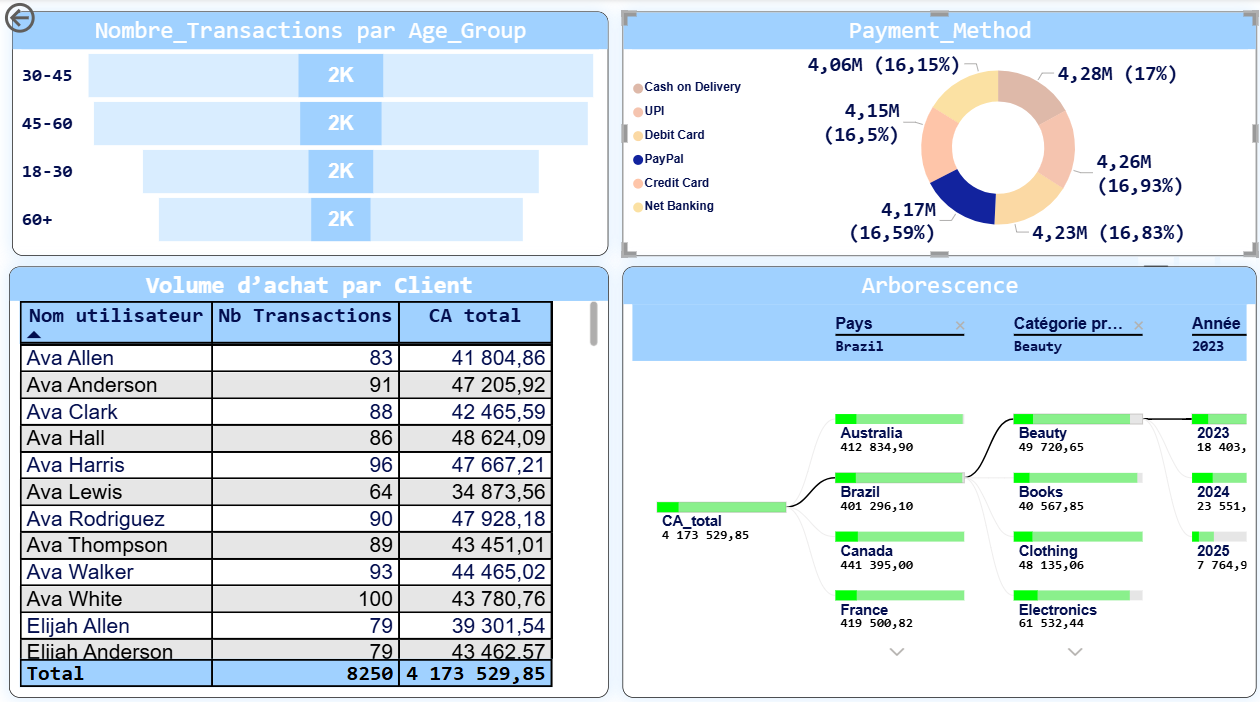

What the dashboard file says about the page in this screenshot:
{"tool":"powerbi","page":{"name":"Page 2","canvas":[1280,720],"ordinal":1},"visuals":[{"type":"funnel","fields":{"Category":["transactions_modifier.Age_Group"],"Y":["transactions_modifier.Nombre_Transactions"]},"box":[11.7,13.3,601.7,246.7],"z":0},{"type":"donutChart","title":" Payment_Method","fields":{"Category":["transactions_modifier.Payment_Method"],"Y":["transactions_modifier.CA_total"]},"box":[628.3,13.3,640,246.7],"z":1000},{"type":"tableEx","title":"Volume d’achat par Client","fields":{"Values":["transactions_modifier.User_Name","transactions_modifier.Nombre_Transactions","transactions_modifier.CA_total"]},"box":[8.3,271.7,605,435],"z":2000},{"type":"actionButton","box":[0,0,100,40],"z":3000},{"type":"decompositionTreeVisual","title":"Arborescence","fields":{"Analyze":["transactions_modifier.CA_total"],"ExplainBy":["transactions_modifier.Country","transactions_modifier.Product_Category","CA_month.Month_year.Variation.Hiérarchie de dates.Année","CA_month.Month_year.Variation.Hiérarchie de dates.Mois"]},"box":[628.3,271.7,640,435],"z":4000}]}

Visuals, with their boxes in screenshot pixels (x1, y1, x2, y2), scaled from the page's 1280x720 canvas onto the 1260x702 screenshot:
funnel - transactions_modifier.Age_Group x transactions_modifier.Nombre_Transactions: bbox(12, 13, 604, 254)
" Payment_Method" donutChart: bbox(618, 13, 1248, 254)
"Volume d’achat par Client" tableEx: bbox(8, 265, 604, 689)
actionButton: bbox(0, 0, 98, 39)
"Arborescence" decompositionTreeVisual: bbox(618, 265, 1248, 689)
